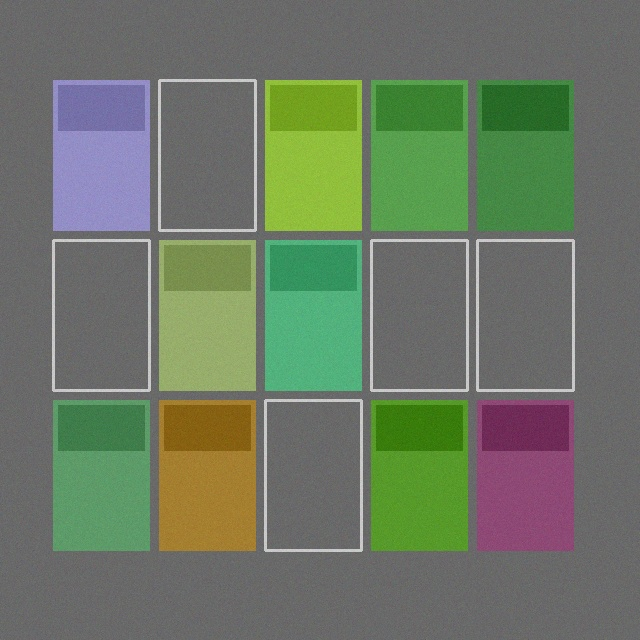space-empty: (159, 80, 255, 230), (53, 240, 149, 390), (371, 240, 467, 390), (477, 240, 573, 390), (265, 400, 361, 550)
space-occupied: (53, 80, 149, 230), (265, 80, 361, 230), (371, 80, 467, 230), (477, 80, 573, 230), (159, 240, 255, 390), (265, 240, 361, 390), (53, 400, 149, 550), (159, 400, 255, 550), (371, 400, 467, 550), (477, 400, 573, 550)
